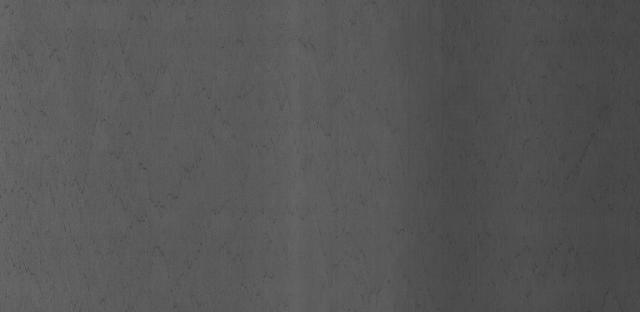silk_spot: (42, 43, 188, 223)
